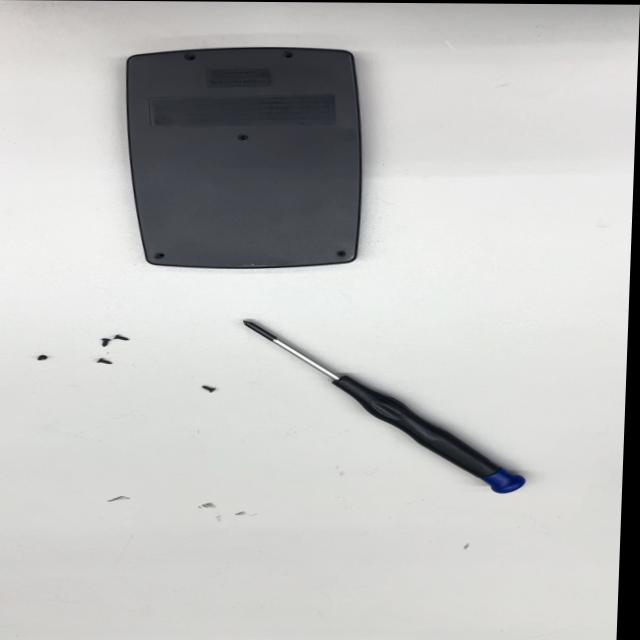back_cover: (112, 40, 375, 274)
screw: (33, 351, 57, 365), (199, 382, 221, 396), (96, 355, 117, 369), (112, 331, 134, 343), (96, 336, 116, 348)
screw_driver: (233, 318, 534, 497)
